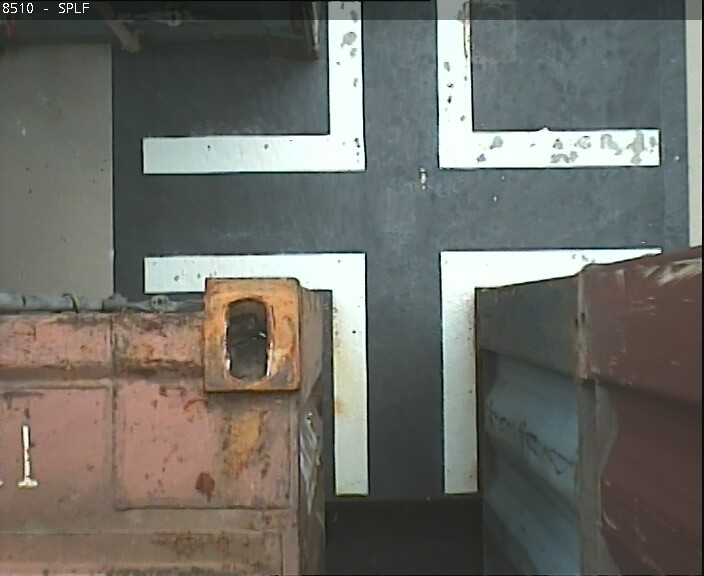groundmarker_1: (145, 253, 658, 493), (144, 1, 659, 176)
